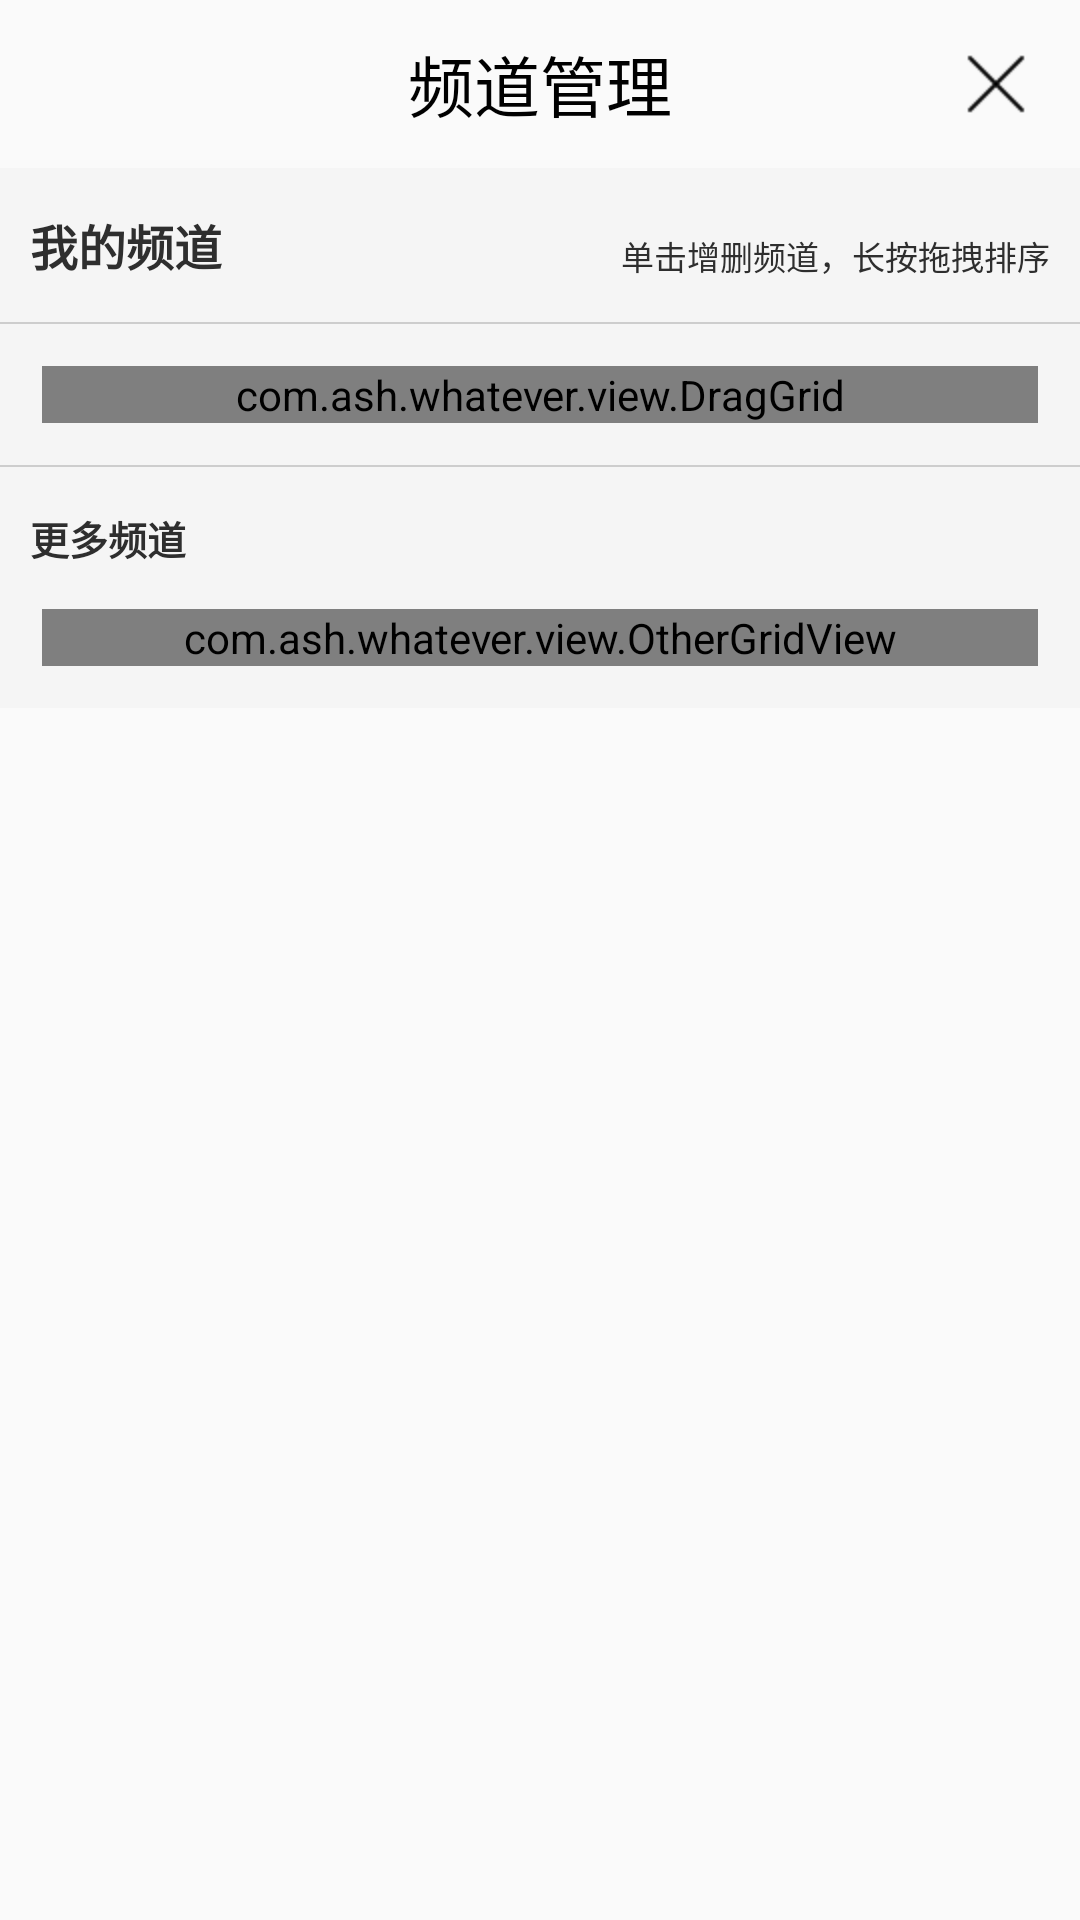

Point at icon controls on the screen. Image size 1080x1920, points as [x,y].
close: [996,84]
